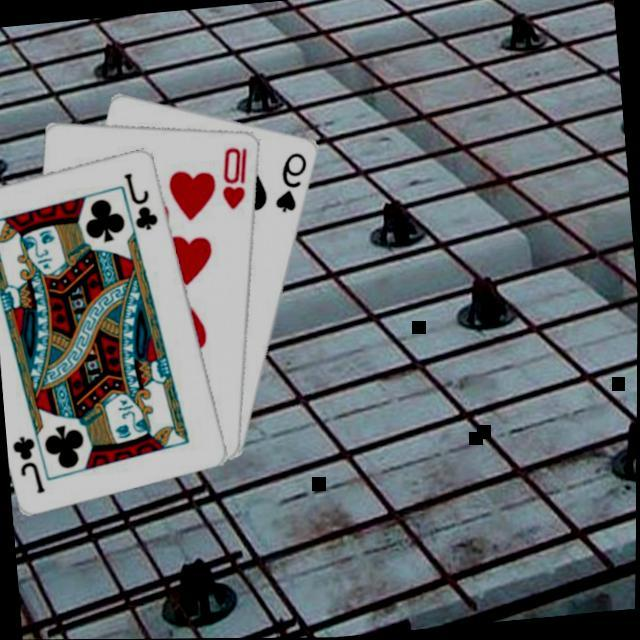10H: (217, 140, 257, 211)
9S: (270, 147, 316, 215)
JC: (122, 165, 165, 233), (11, 429, 51, 496)
